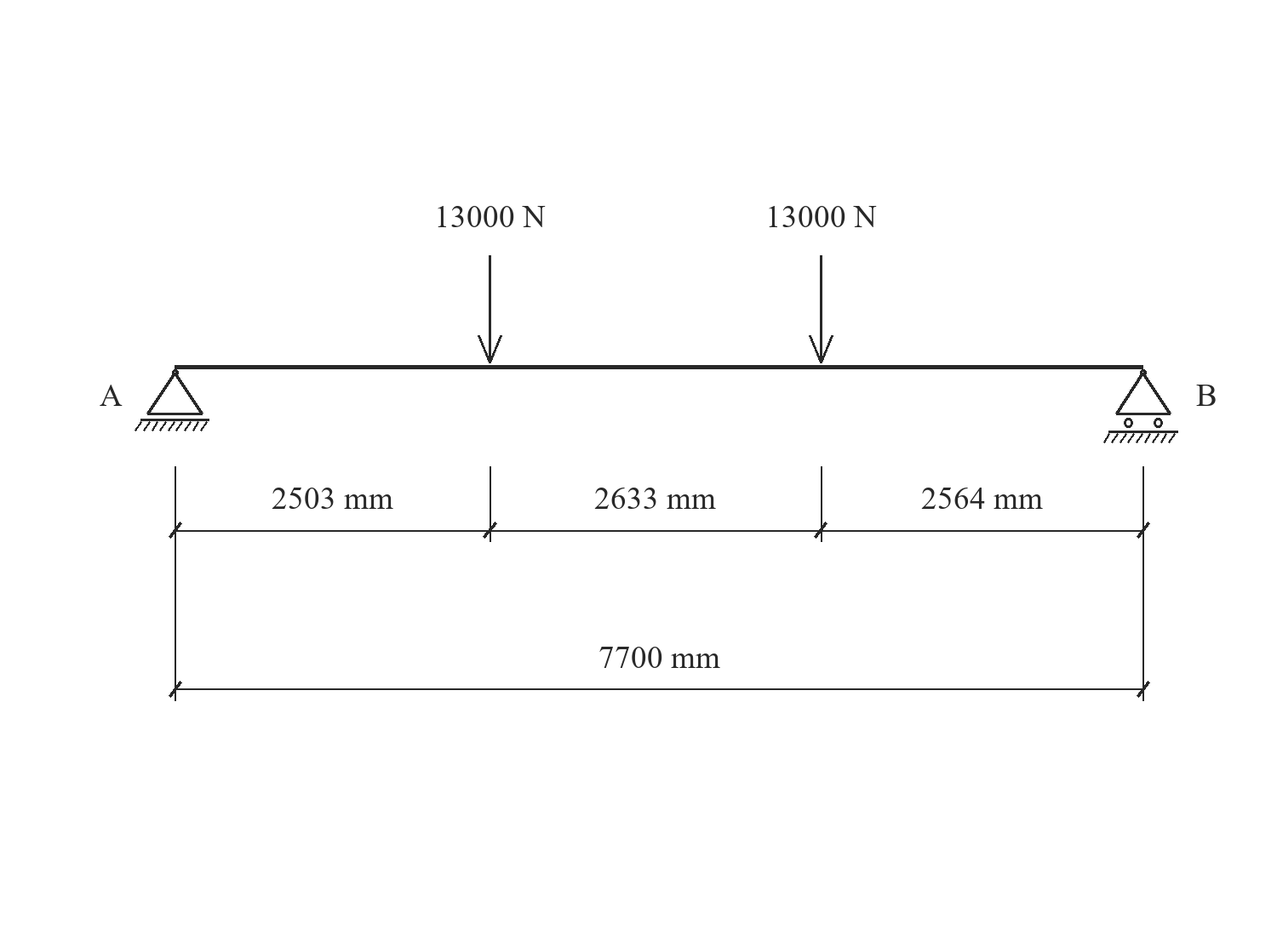pin_support: (135, 369, 209, 431)
point_load: (478, 255, 502, 363), (809, 255, 833, 363)
roller_support: (1103, 369, 1178, 443)
